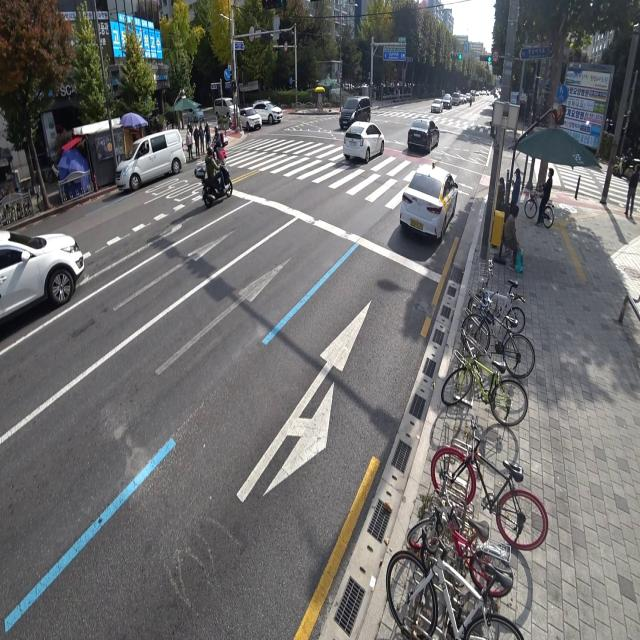Car: (0, 190, 89, 330), (394, 154, 462, 244), (111, 120, 186, 184), (340, 108, 389, 166), (411, 111, 447, 152), (335, 92, 373, 126), (253, 96, 286, 127), (212, 92, 238, 120), (237, 105, 259, 131), (432, 97, 444, 116), (443, 87, 450, 110)
Motorcycle: (196, 145, 234, 209), (614, 146, 639, 177)
